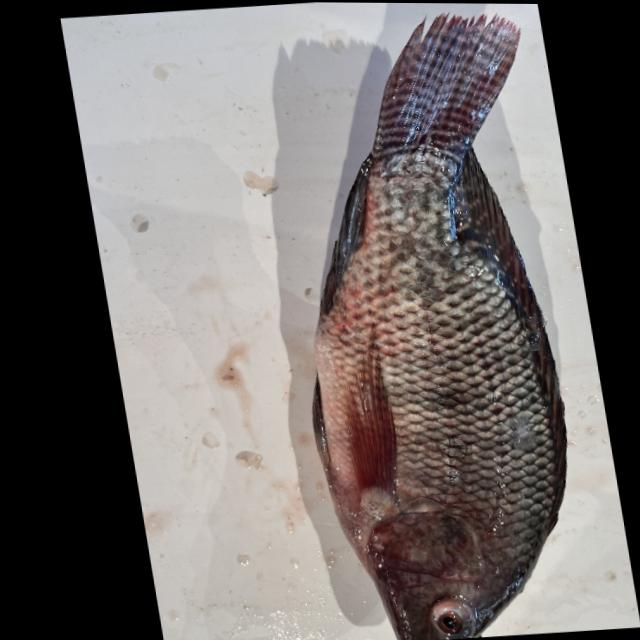Tilapia: (238, 7, 626, 640)
